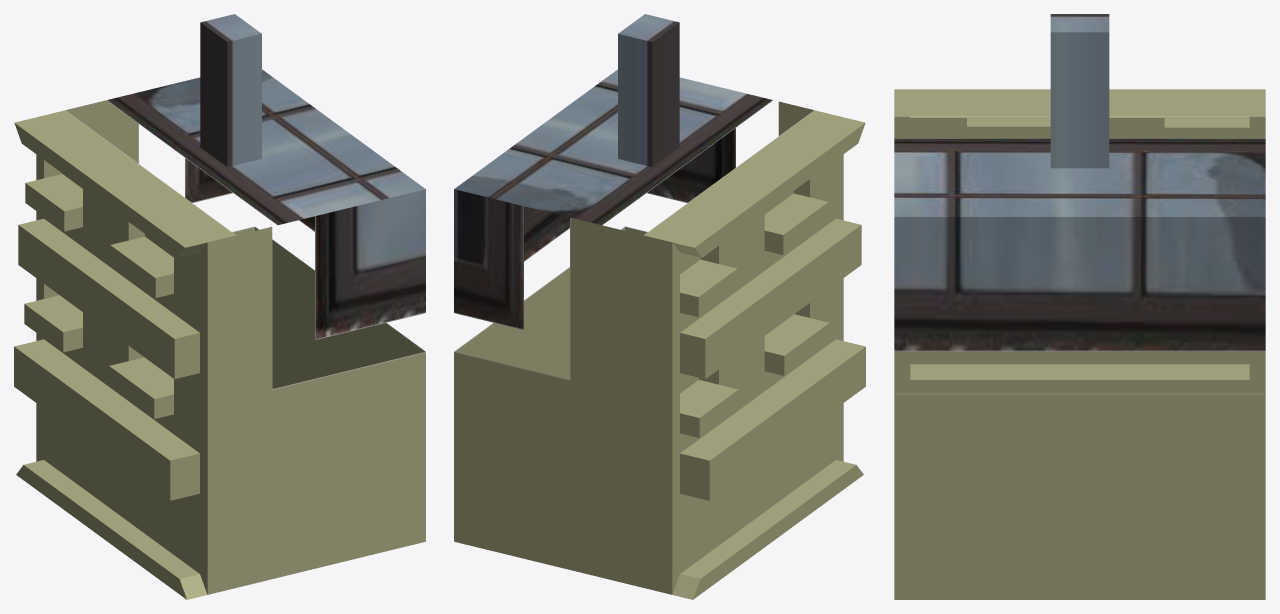
Rendered from building1.obj.
The picture shows the model from 3 angles, left to right: view 1: azimuth 30°, elevation 25°; view 2: azimuth 150°, elevation 25°; view 3: azimuth 270°, elevation 25°; orthographic projection. The views are drawn at different scales.
Parts seen in each view (by area): view 1: Cube; view 2: Cube; view 3: Cube.
Part boxes in pixels (box(x1,y1,x2,y2)): Cube: box(14, 14, 425, 599); Cube: box(454, 14, 865, 599); Cube: box(894, 14, 1265, 599).
Bounding box in the file's own units: 5.33 × 9.81 × 6.37.
